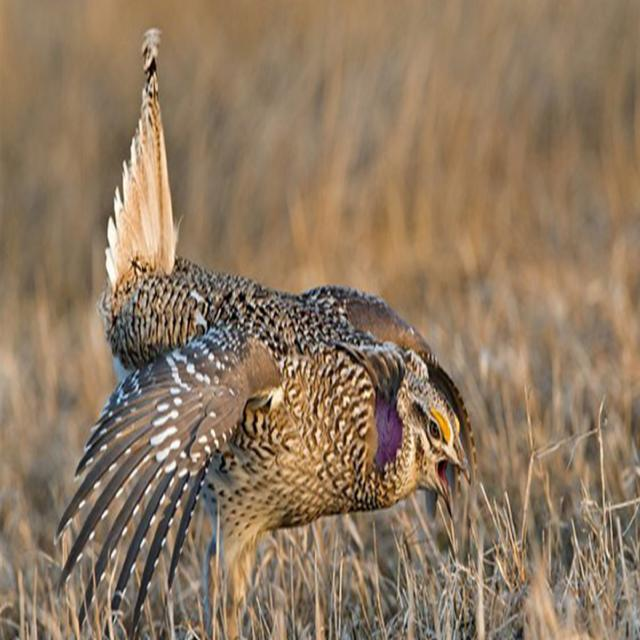bird: (54, 22, 483, 631)
